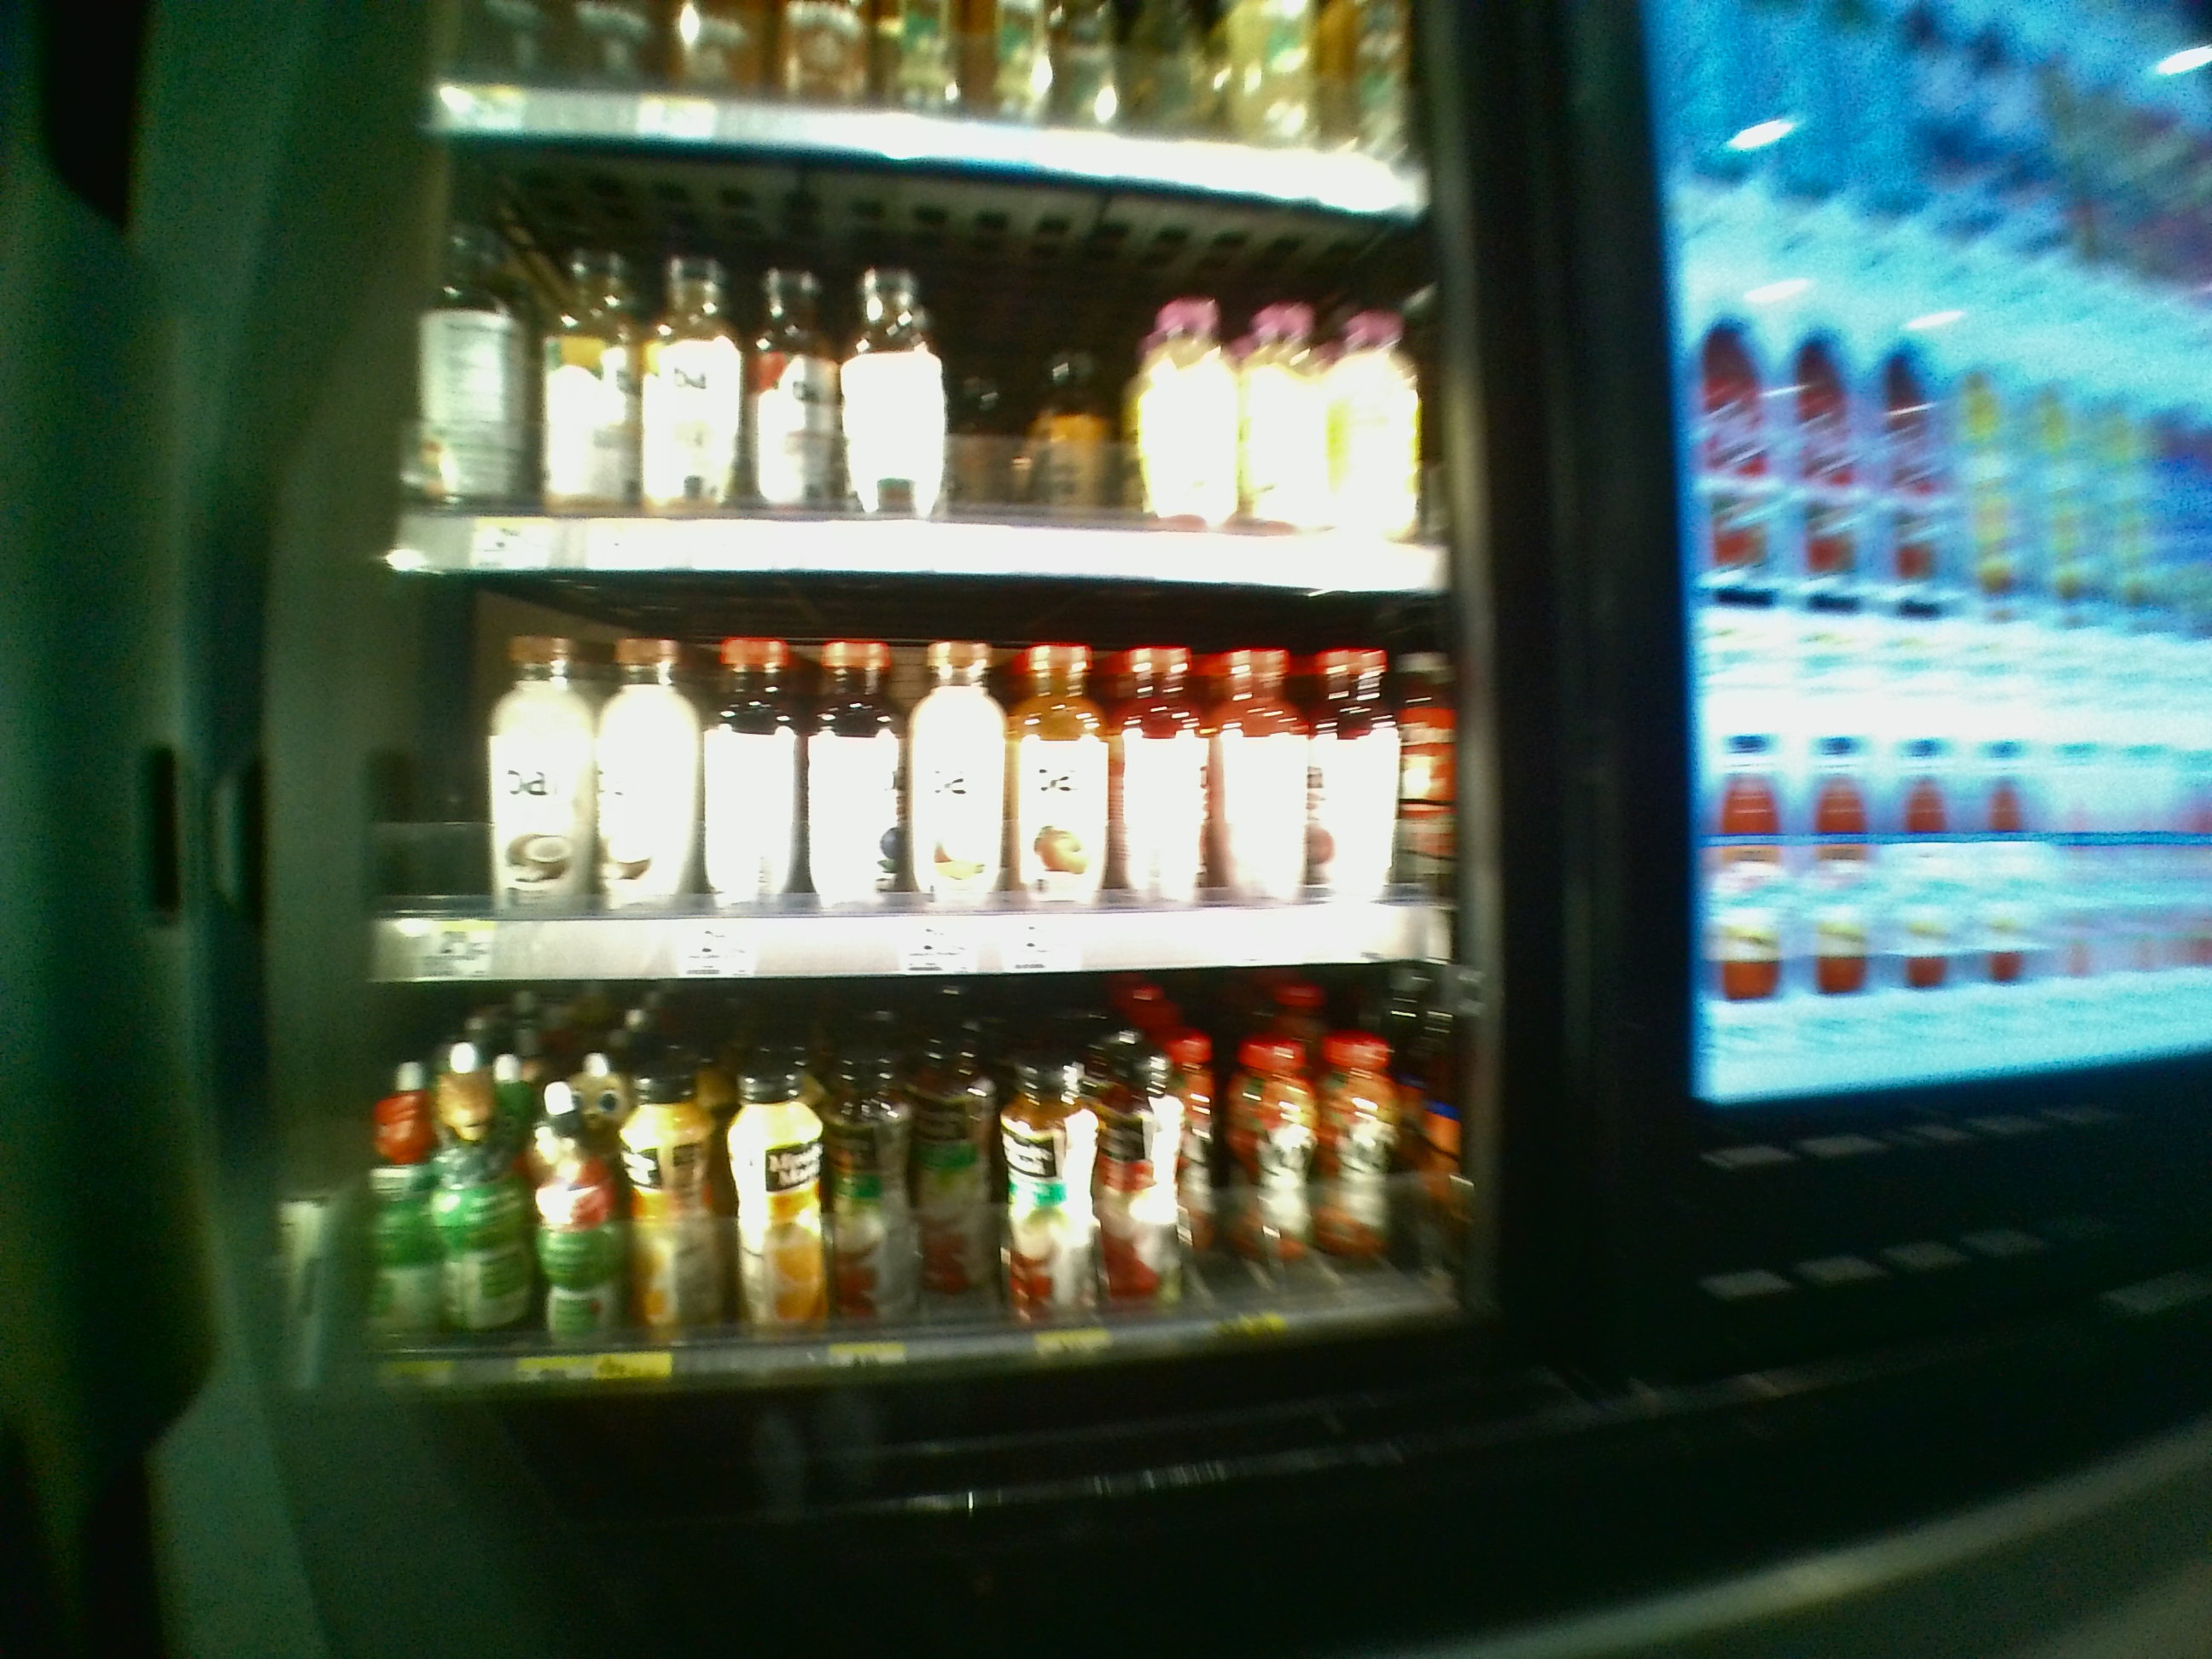shelf: (371, 146, 1439, 591), (374, 1007, 1468, 1399), (366, 606, 1465, 988)
